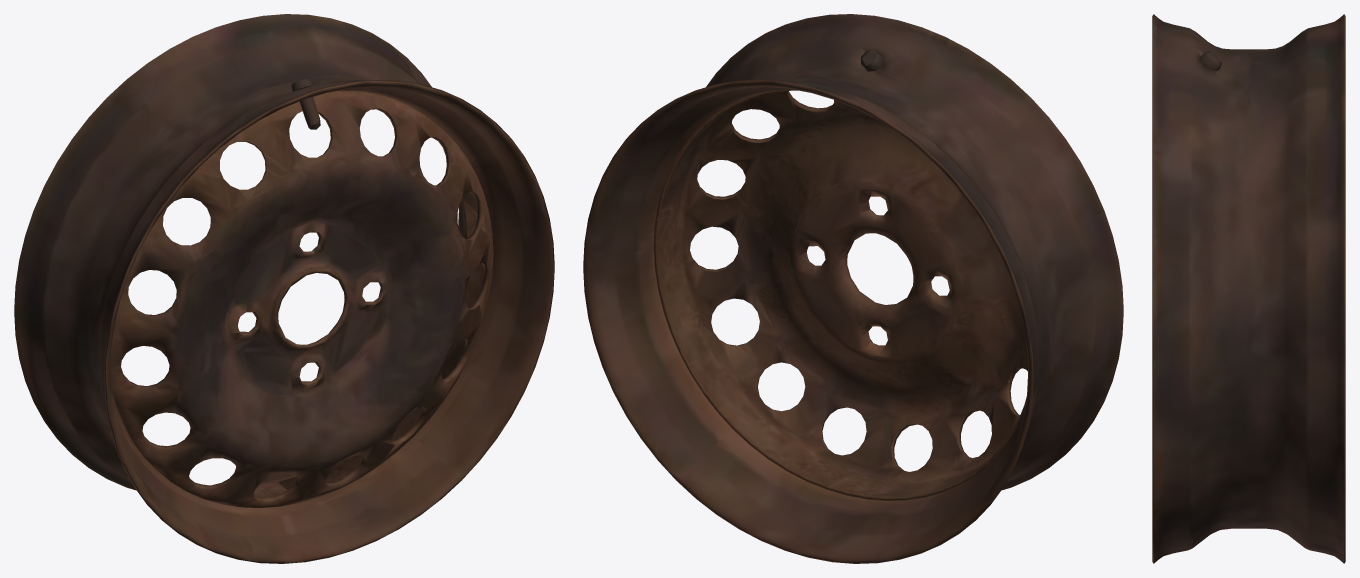
Rendered from rusted-wheel-rim-02.glb.
3 views of the same model, side by side, from view 1: azimuth 30°, elevation 25°; view 2: azimuth 150°, elevation 25°; view 3: azimuth 270°, elevation 25° (orthographic). The views are drawn at different scales.
Visible parts, largest first — view 1: rusted_wheel_rim_02; view 2: rusted_wheel_rim_02; view 3: rusted_wheel_rim_02.
Part boxes in pixels (x1,y1,x2,y2): rusted_wheel_rim_02: (14, 14, 554, 563); rusted_wheel_rim_02: (583, 14, 1123, 563); rusted_wheel_rim_02: (1152, 14, 1345, 563).
Bounding box in the file's own units: 0.3378 × 0.3378 × 0.1188.
Materials: 1 (1 with a texture image).
